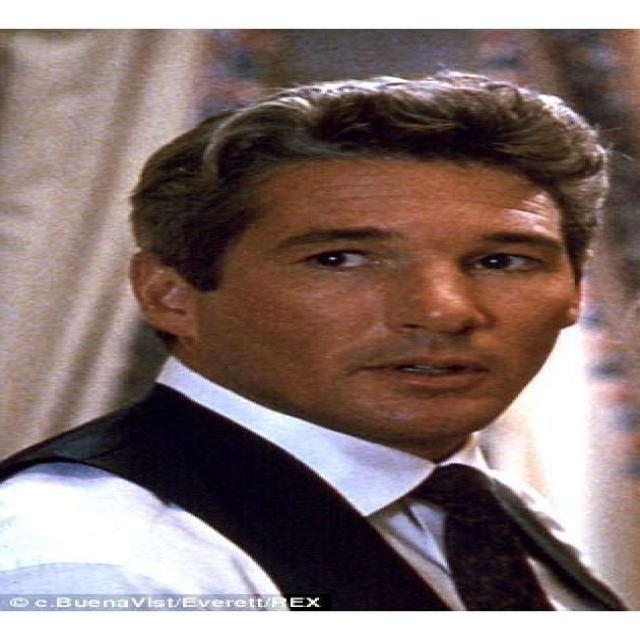human: (0, 80, 640, 602)
